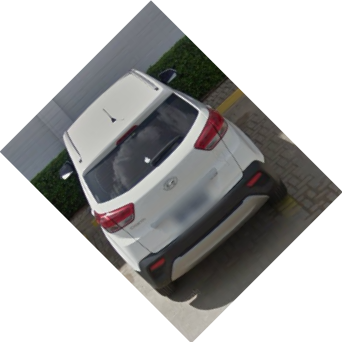car: (57, 66, 290, 290)
